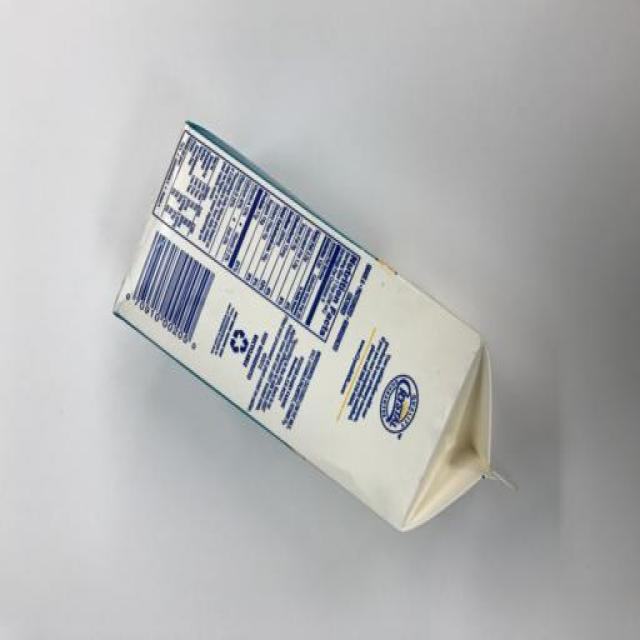paper: (115, 95, 592, 610)
